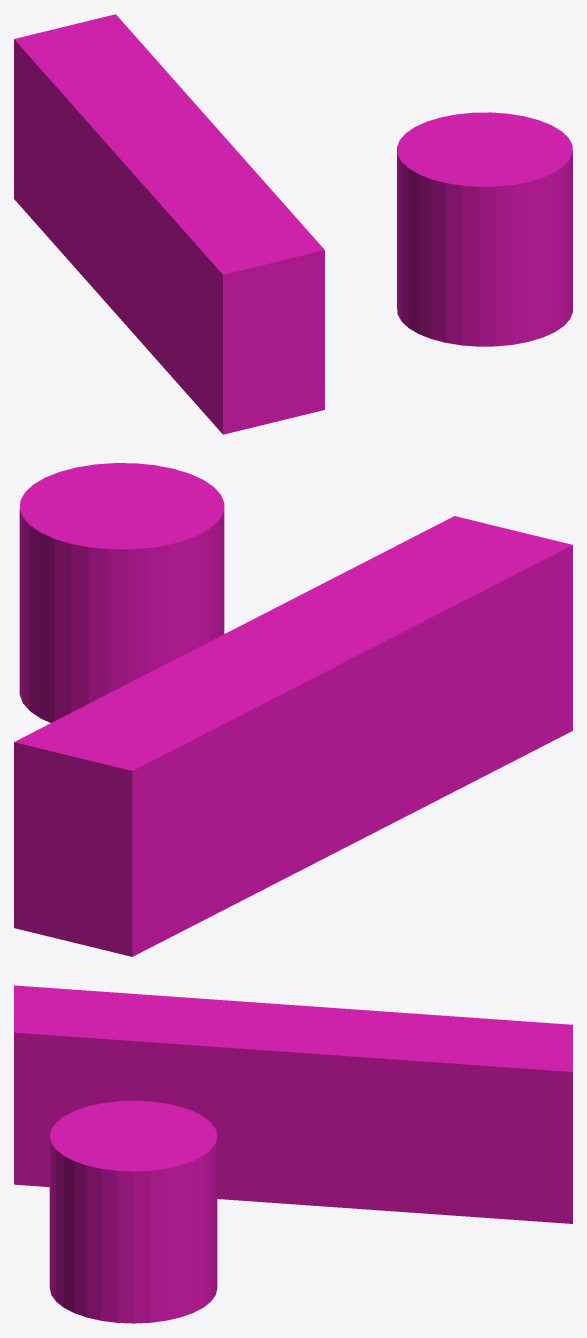
File: heloma_interdigital_interno.gltf
3 views of the same model, one above another, from view 1: azimuth 30°, elevation 25°; view 2: azimuth 150°, elevation 25°; view 3: azimuth 270°, elevation 25° (orthographic). The views are drawn at different scales.
Parts seen in each view (by area): view 1: Cube, Cilindro; view 2: Cube, Cilindro; view 3: Cube, Cilindro.
Part boxes in pixels (left/top/right/bottom): Cube: left=14, top=14, right=324, bottom=434; Cilindro: left=397, top=112, right=572, bottom=346; Cube: left=14, top=516, right=572, bottom=956; Cilindro: left=19, top=463, right=224, bottom=722; Cube: left=14, top=985, right=572, bottom=1223; Cilindro: left=49, top=1100, right=217, bottom=1323.
Bounding box in the file's own units: 1.58 × 0.6 × 2.
